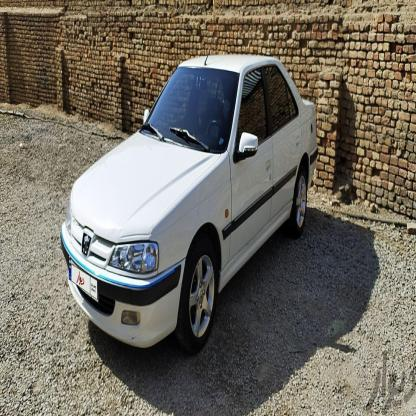Car: (63, 55, 320, 362)
